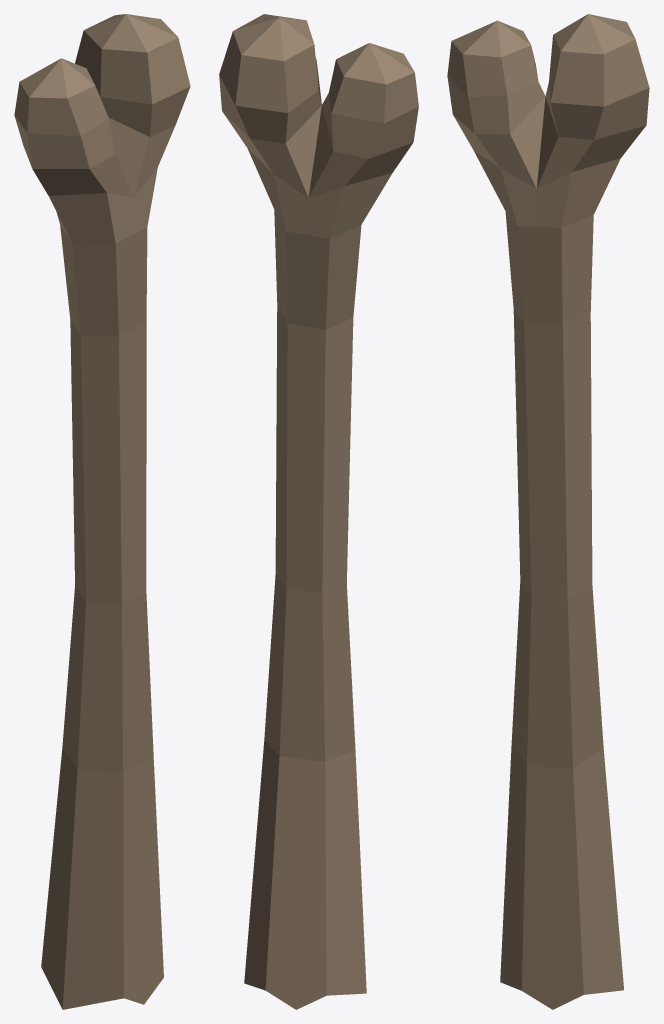
File: SM_Prop_Sign_Post_06.fbx
The picture shows the model from 3 angles, left to right: view 1: azimuth 30°, elevation 25°; view 2: azimuth 150°, elevation 25°; view 3: azimuth 330°, elevation 25°; orthographic projection.
Visible parts, largest first — view 1: SM_Prop_Sign_Post_06; view 2: SM_Prop_Sign_Post_06; view 3: SM_Prop_Sign_Post_06.
Part boxes in pixels (<box>): SM_Prop_Sign_Post_06: <box>14,14,190,1009</box>; SM_Prop_Sign_Post_06: <box>219,14,418,1009</box>; SM_Prop_Sign_Post_06: <box>447,14,649,1009</box>.
Size of the model in its own units: 22.5 by 121 by 15.43.
